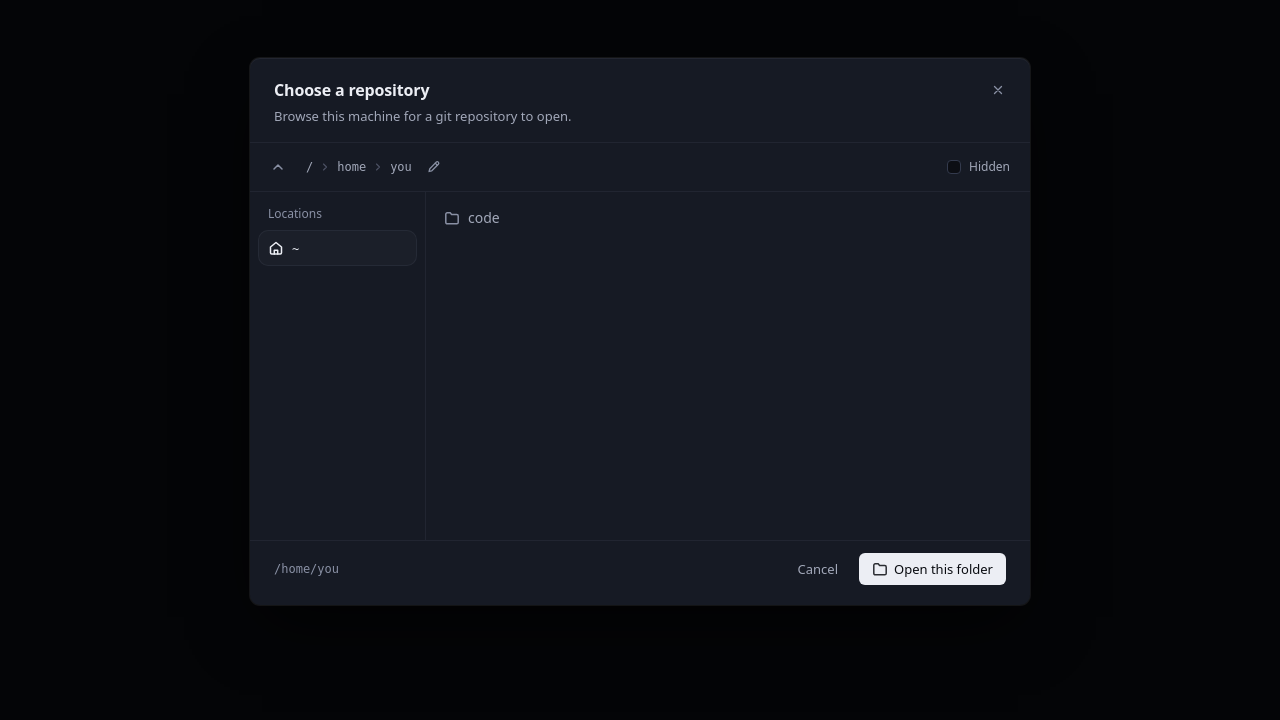
Test case: DirectoryPicker › walks up from a path typed mid-session, the way it does for one it was handed
Click the element named "Current path" at point(374, 167), box [302,155,446,179]
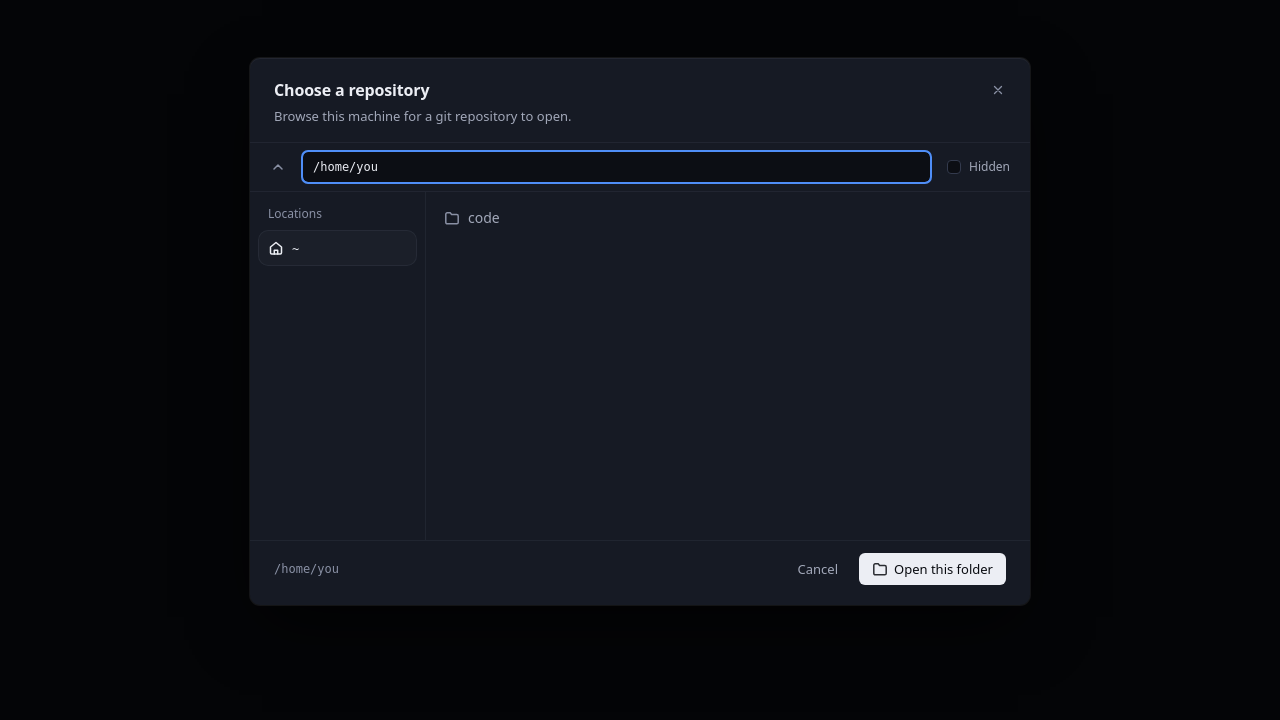
Replace the text in the field named "path" with "/home/you/nope/deeper" at point(617, 167), box [302,151,931,183]
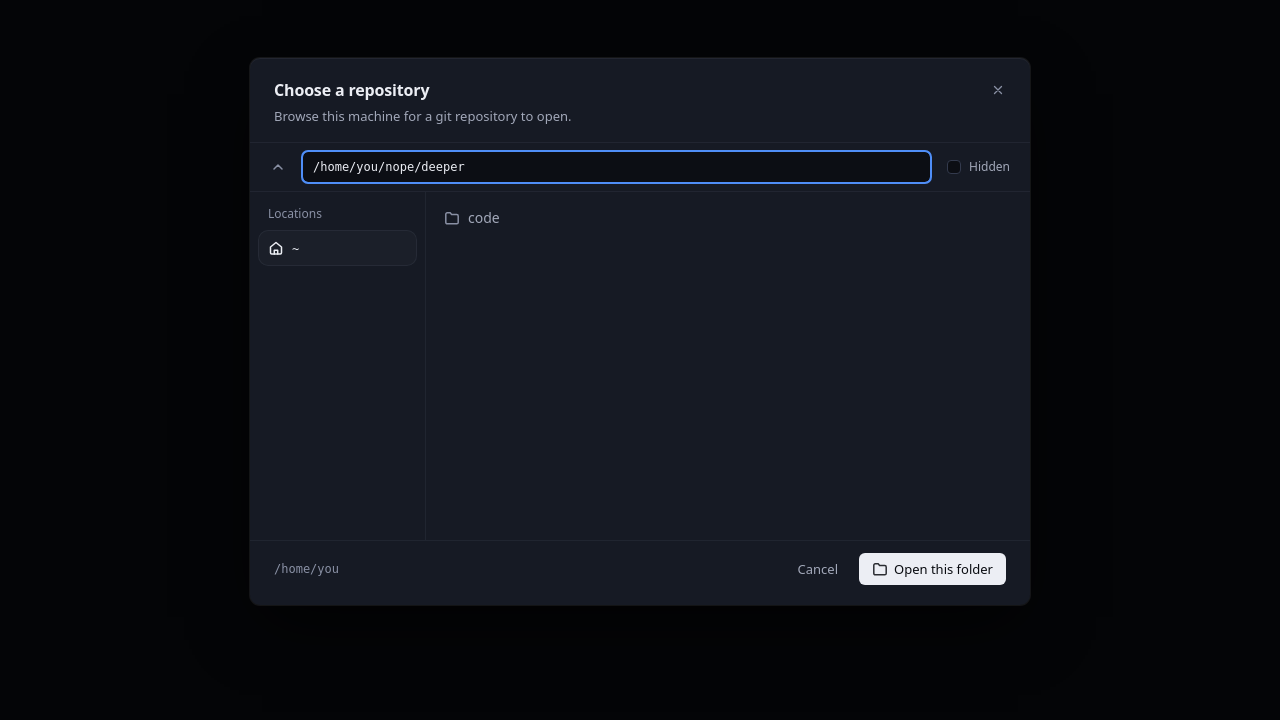
Press Enter in the field named "path", box [302,151,931,183]
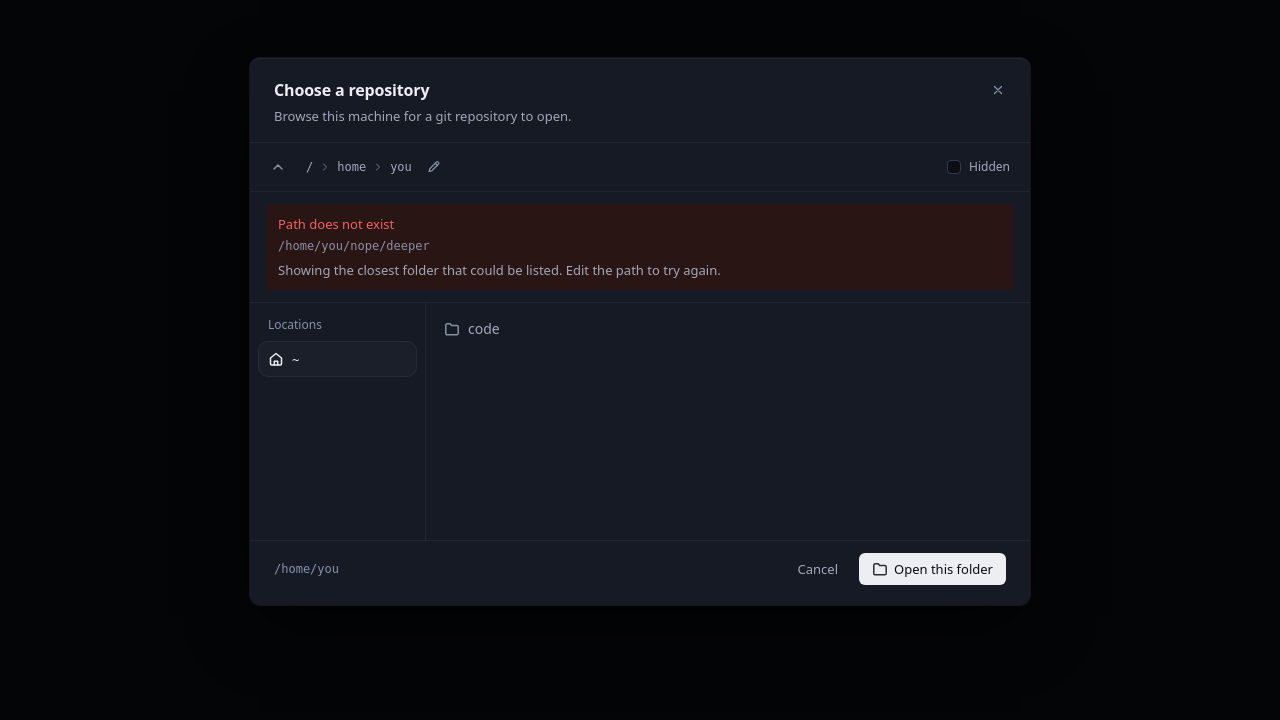
Expected: the button named "Up one level" is enabled, [262,151,294,183]
Expected: the element named "Current path" shows "you", [386,157,416,177]
